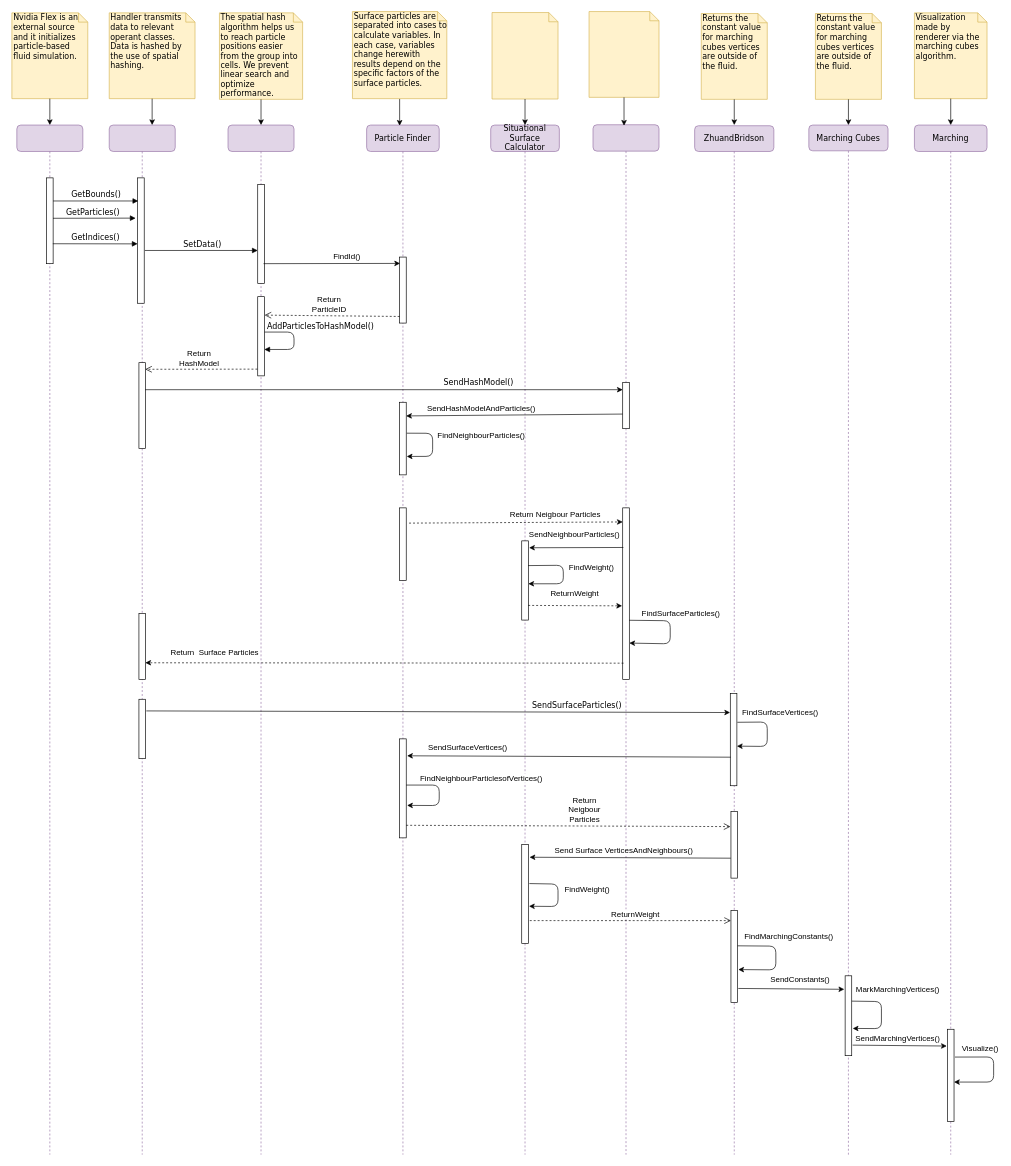
This 1011x1166 diagram has some shape labels left out. The shapes that lost their labels are listed below. From the top down, each one's box as (x1, y1, x2, y2) in pixels, then its label:
(491, 12, 558, 99): Surface particles are determined based on color field quantity.
(588, 11, 659, 97): Group neighbor particles for each vertex.
(16, 124, 83, 1155): Nvidia Flex
(109, 124, 175, 1155): Handler
(227, 124, 294, 1155): HashSystem
(592, 124, 659, 1155): Surface Recognizer
